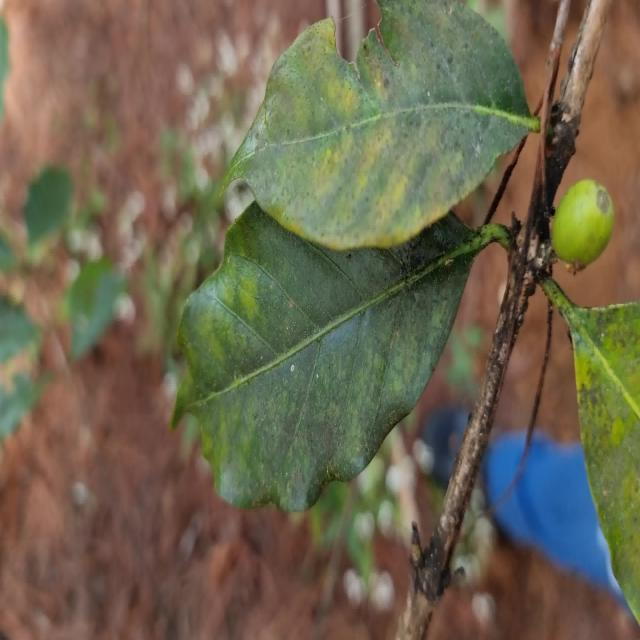leaves: (117, 120, 500, 555), (176, 0, 559, 310)
